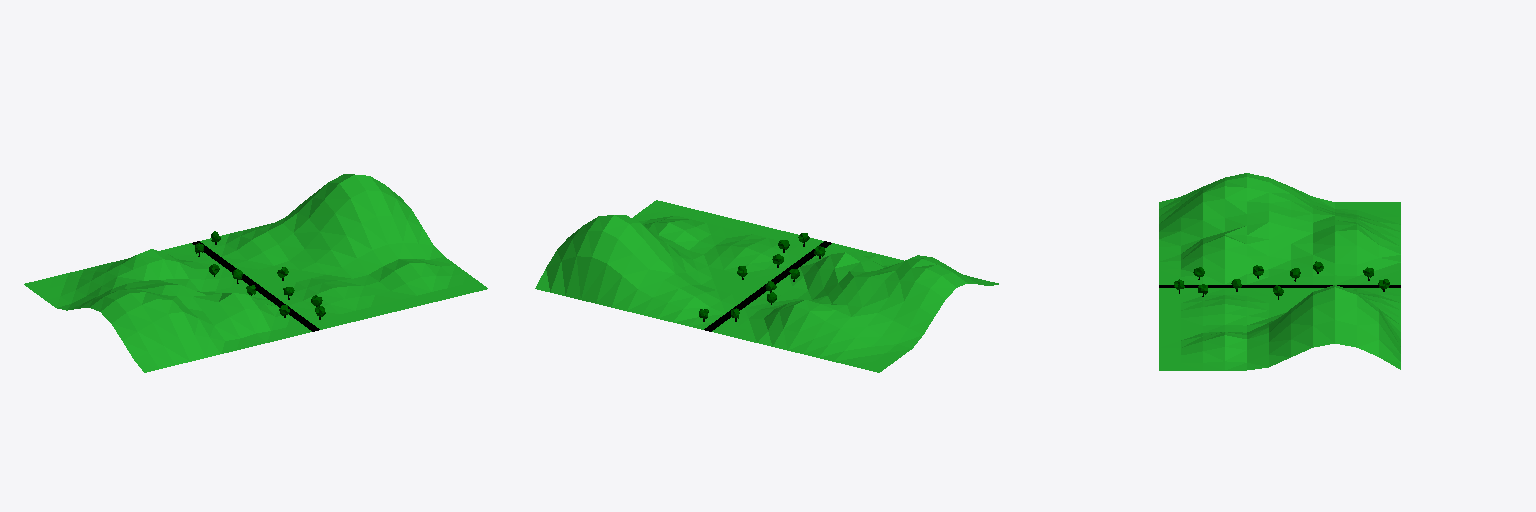
Rendered from field.obj.
The picture shows the model from 3 angles: view 1: azimuth 30°, elevation 25°; view 2: azimuth 150°, elevation 25°; view 3: azimuth 270°, elevation 25°; orthographic projection.
Visible parts, largest first — view 1: Road.001; view 2: Road.001; view 3: Road.001.
Part boxes in pixels (bbox=[...]): Road.001: bbox=[24, 174, 487, 372]; Road.001: bbox=[535, 200, 998, 372]; Road.001: bbox=[1159, 173, 1400, 370].
Bounding box in the file's own units: 81.88 × 13.85 × 50.